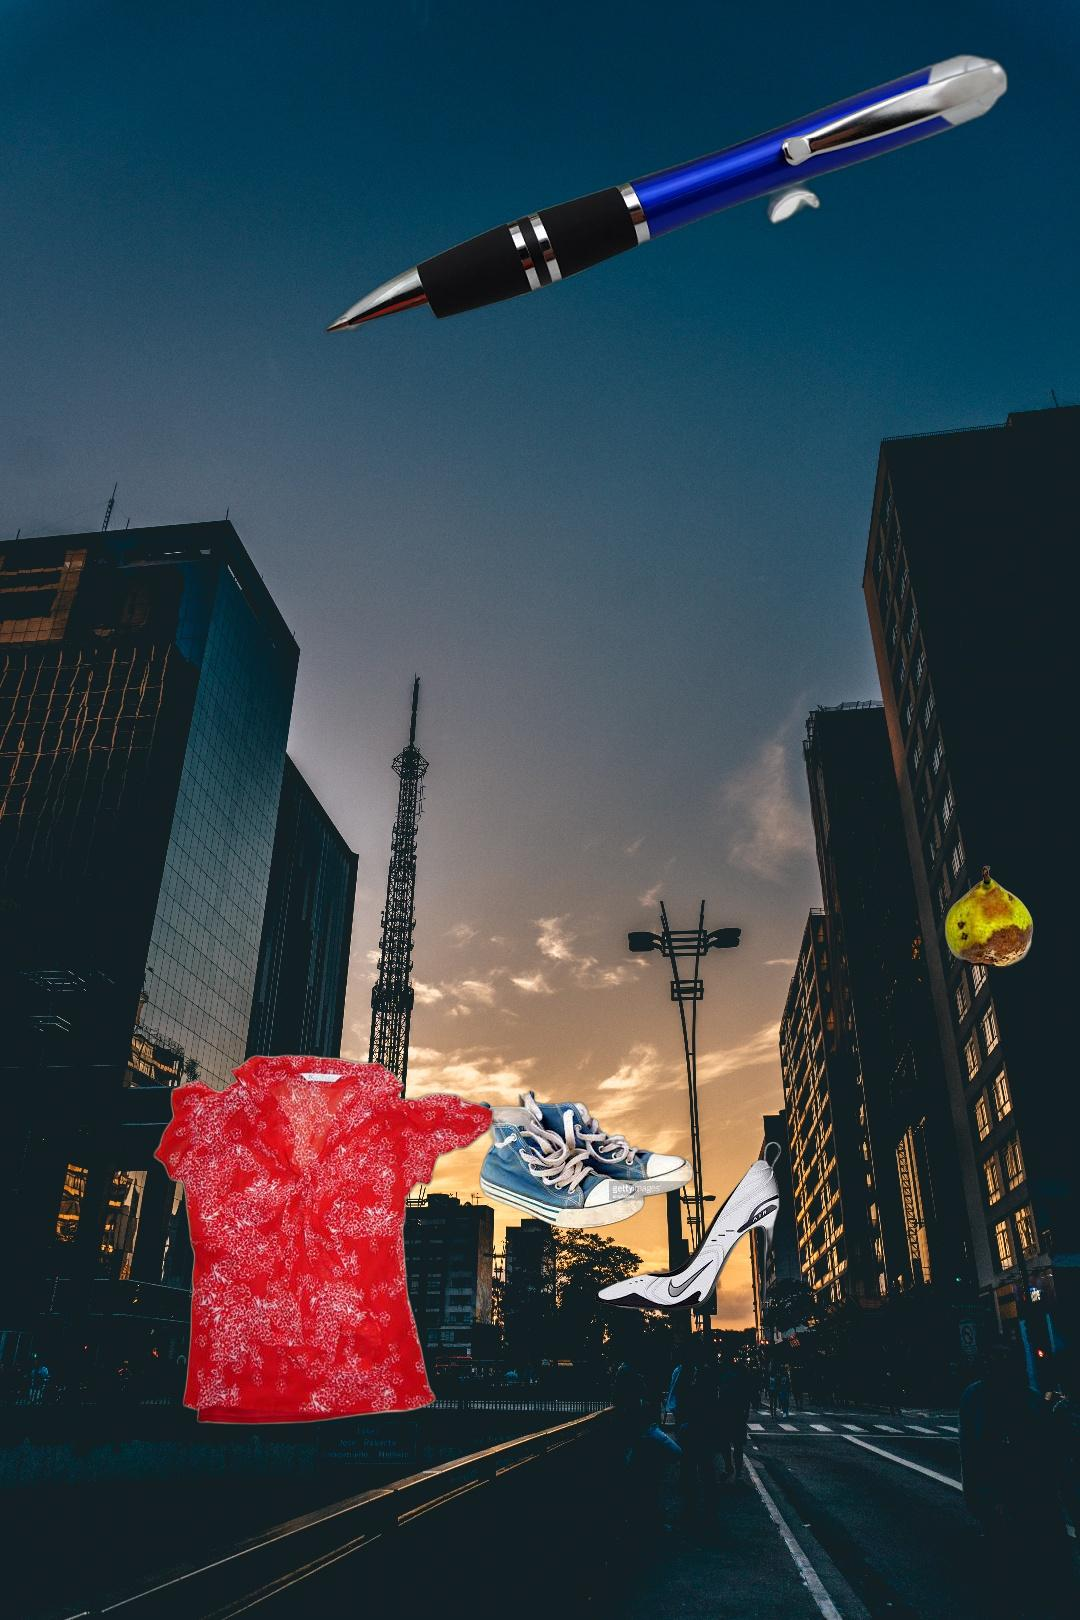biological: (943, 863, 1035, 970)
clothes: (149, 1049, 497, 1430)
penholder: (319, 48, 1015, 341)
shoes: (593, 1139, 783, 1314), (475, 1088, 695, 1231)
